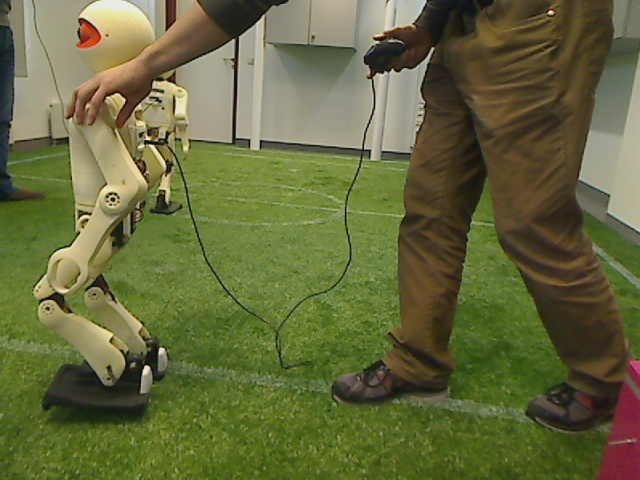robot: (41, 1, 174, 421), (129, 45, 197, 221)
